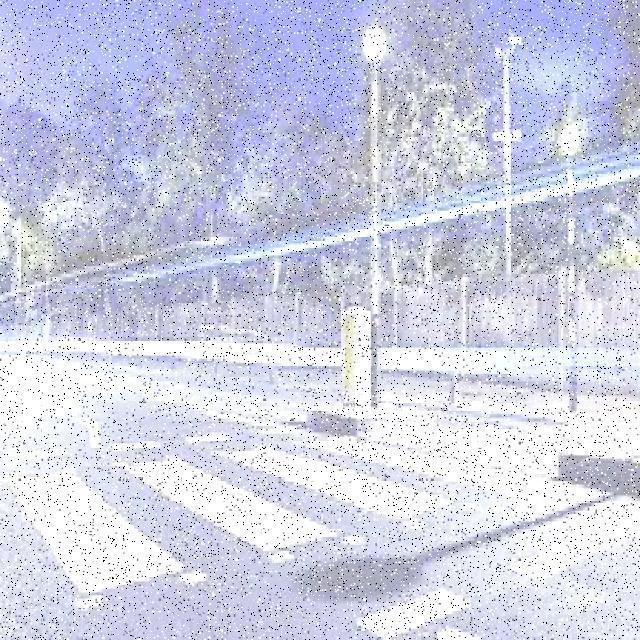crosswalk: (15, 432, 543, 596)
